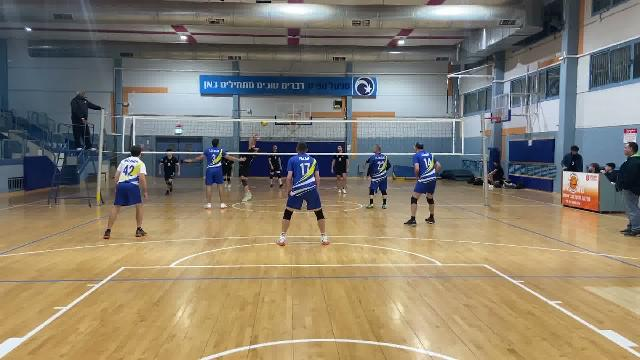ball: (261, 119, 269, 128)
